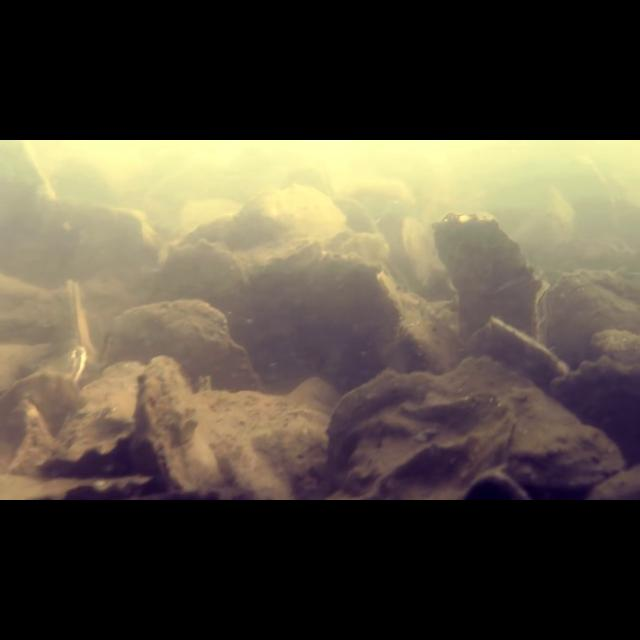Oyster-Closed: (316, 354, 628, 500), (242, 236, 409, 398), (192, 373, 346, 500), (430, 210, 543, 358), (96, 296, 262, 395), (140, 354, 222, 498), (143, 238, 250, 348), (544, 352, 640, 474), (535, 267, 640, 374), (53, 361, 144, 454), (464, 316, 571, 392), (66, 276, 101, 373)
Oyster-Open: (16, 422, 152, 500)
